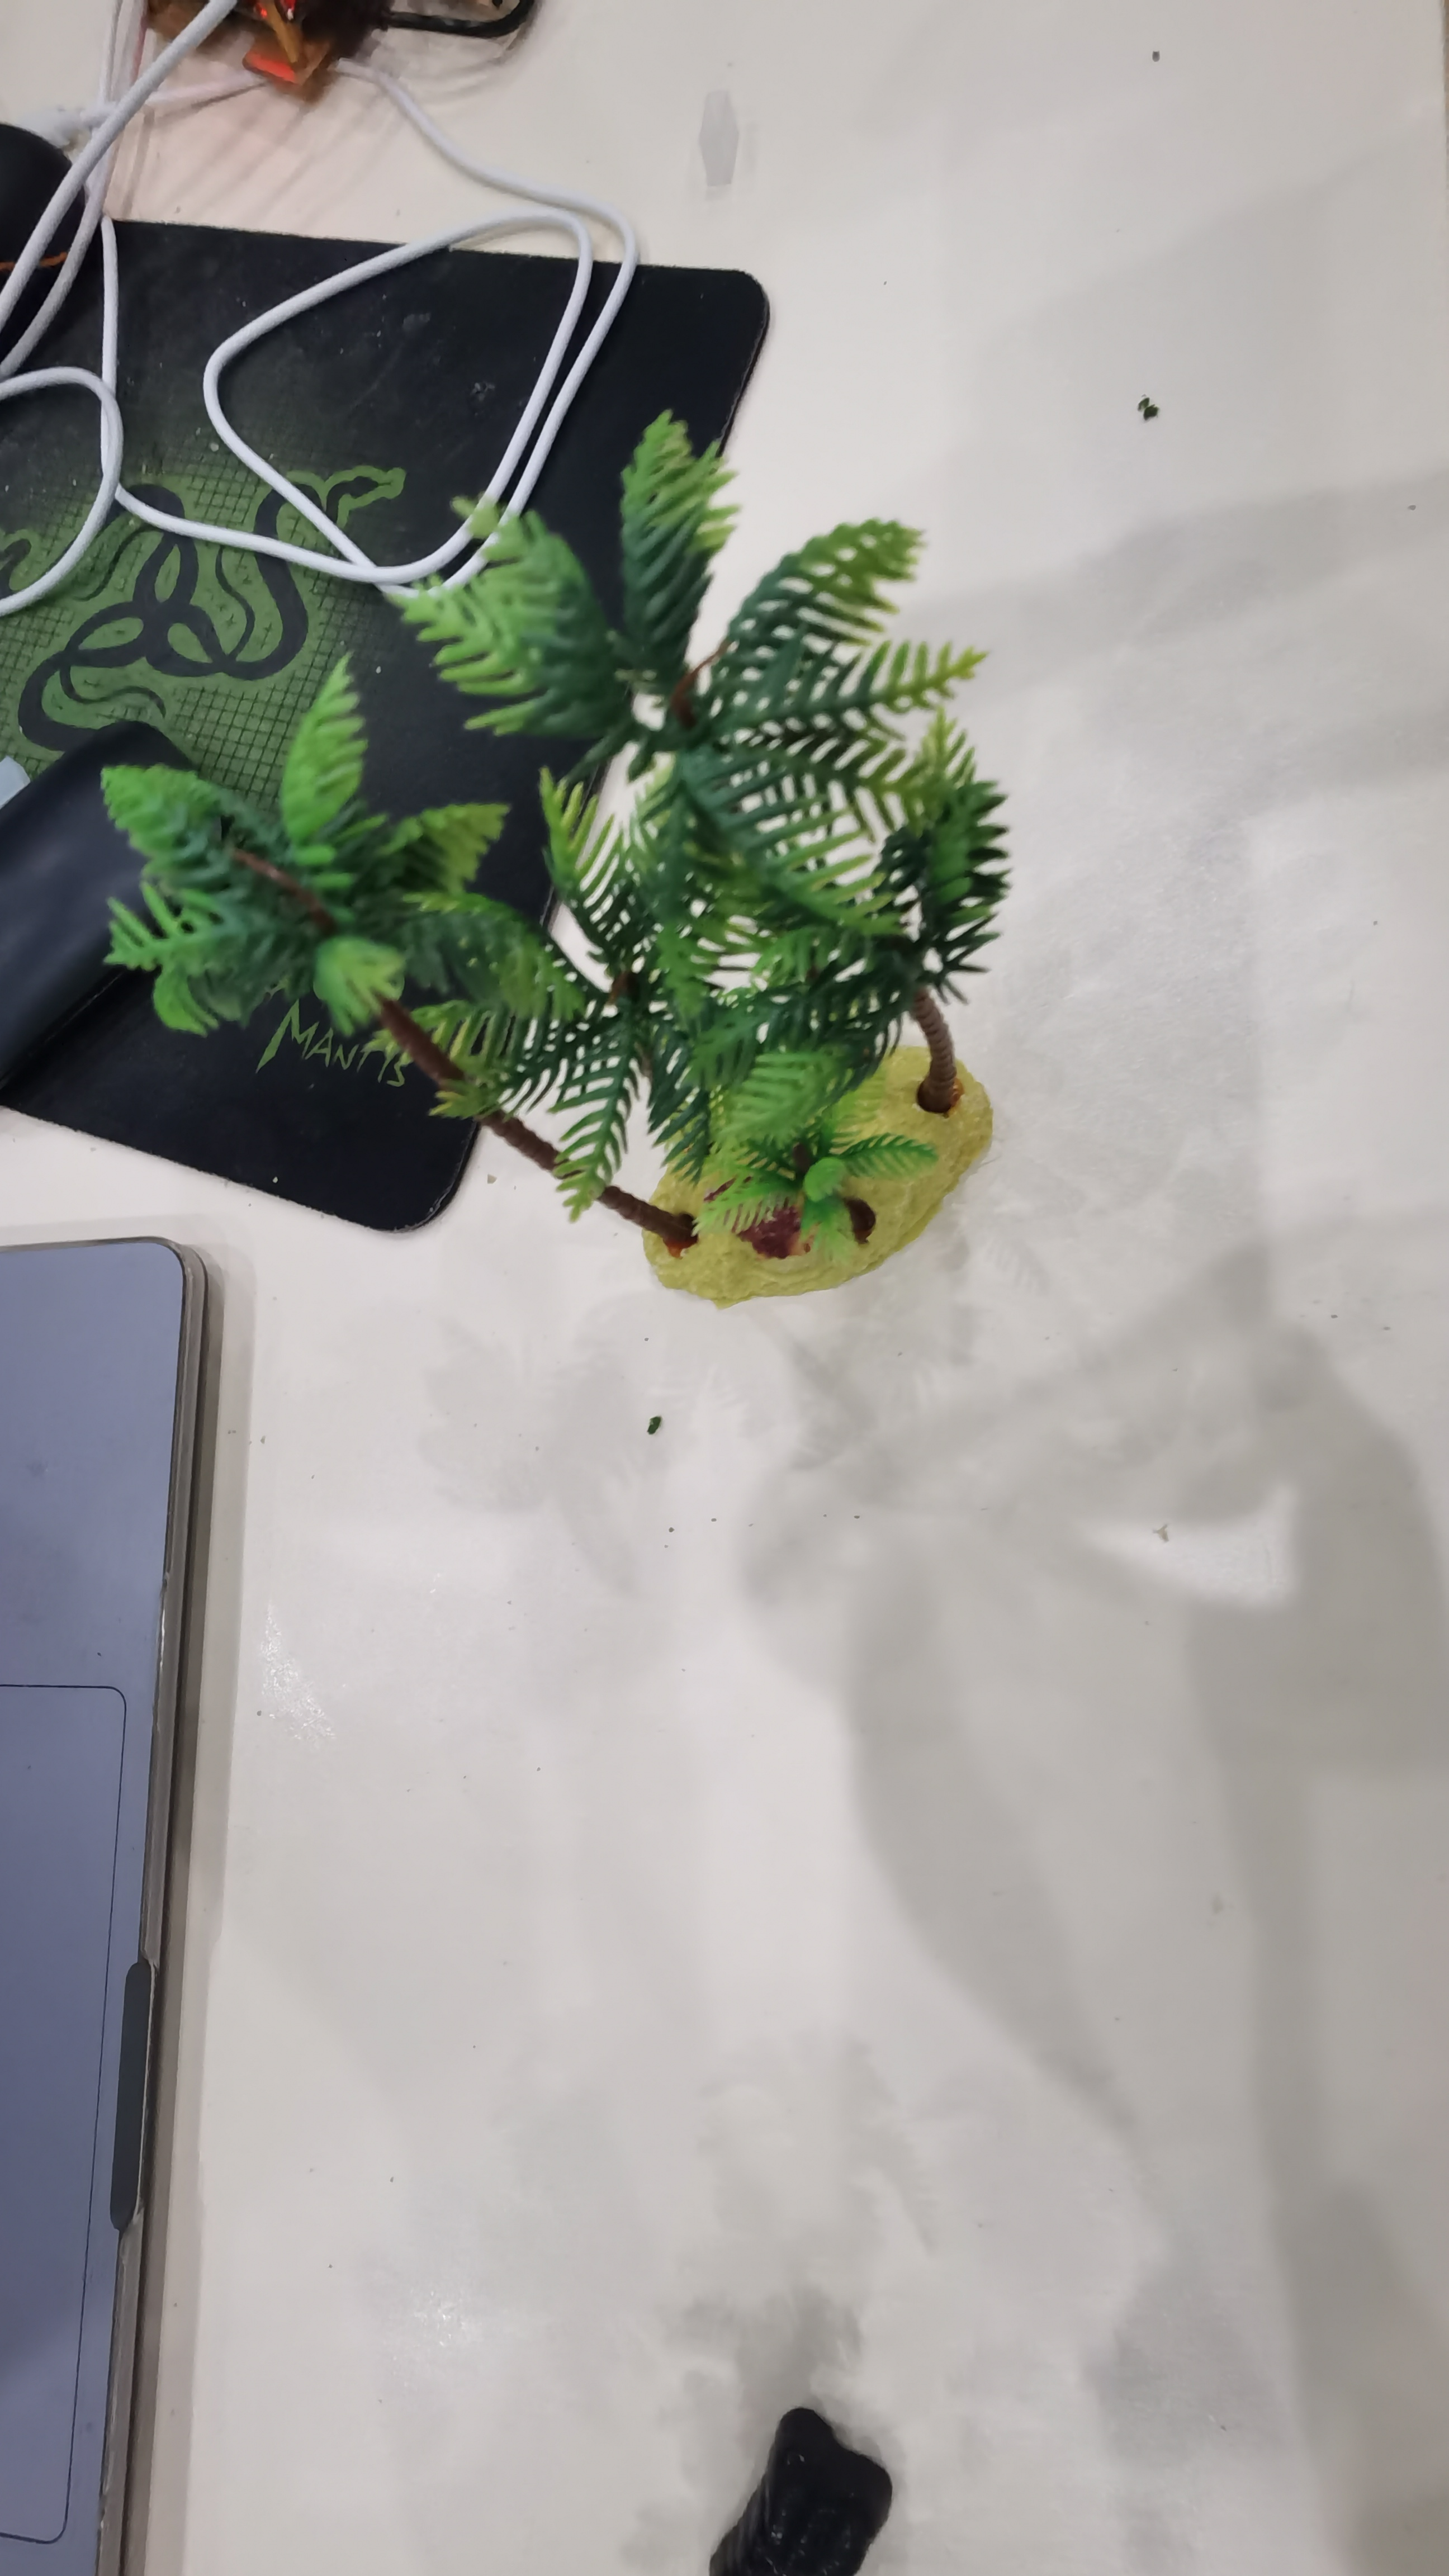corn: (64, 410, 1003, 1302)
